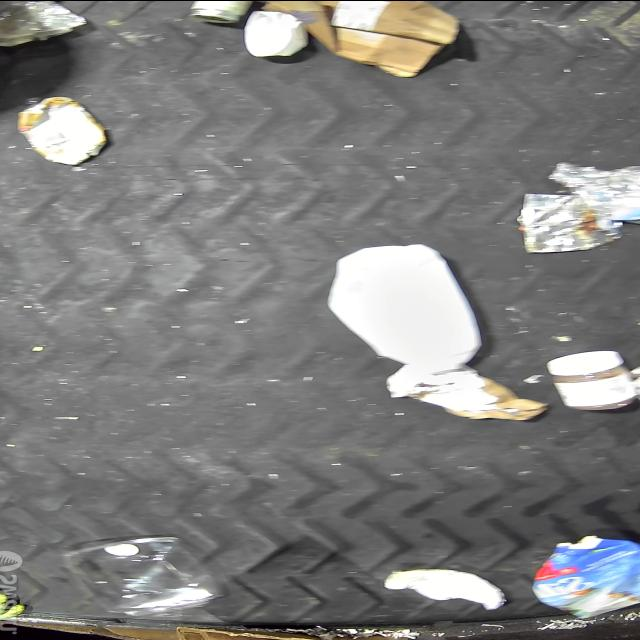can: (520, 192, 620, 252), (189, 0, 255, 25)
milk_jug: (328, 240, 482, 376)
non_white_jug: (530, 536, 640, 618)
